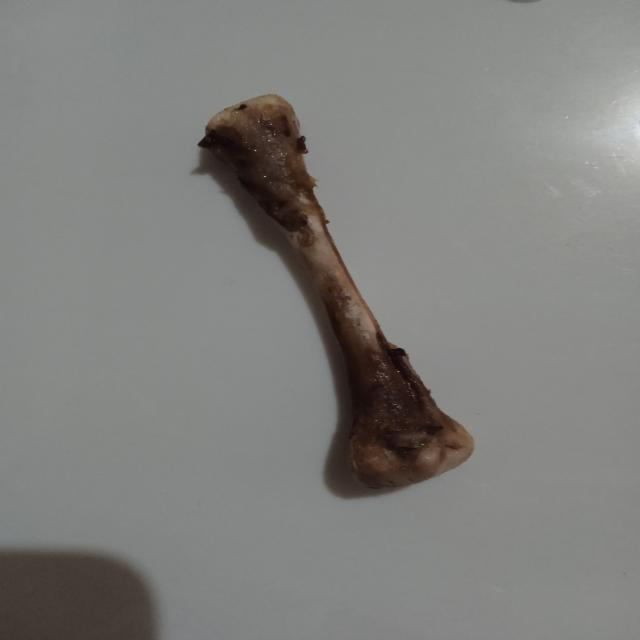bone: (192, 87, 482, 501)
